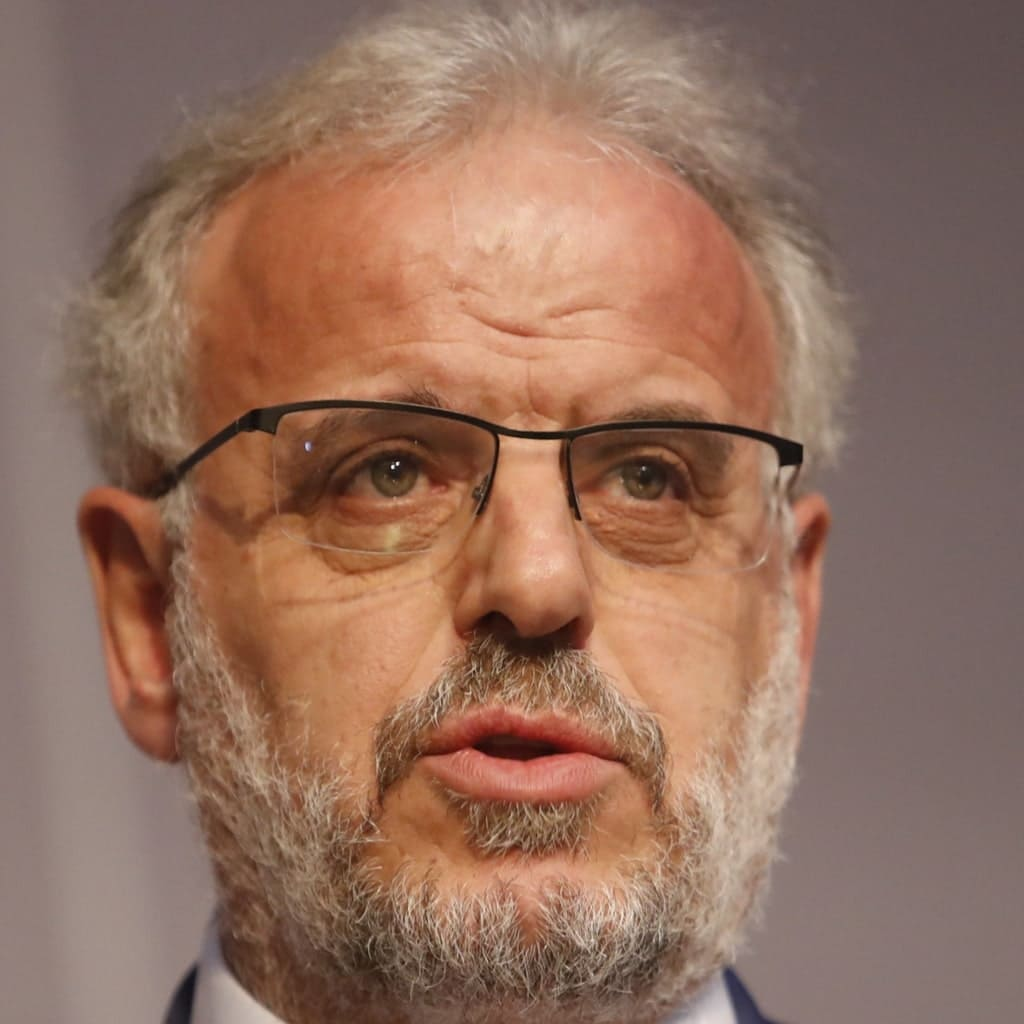without_mask: (242, 199, 780, 933)
